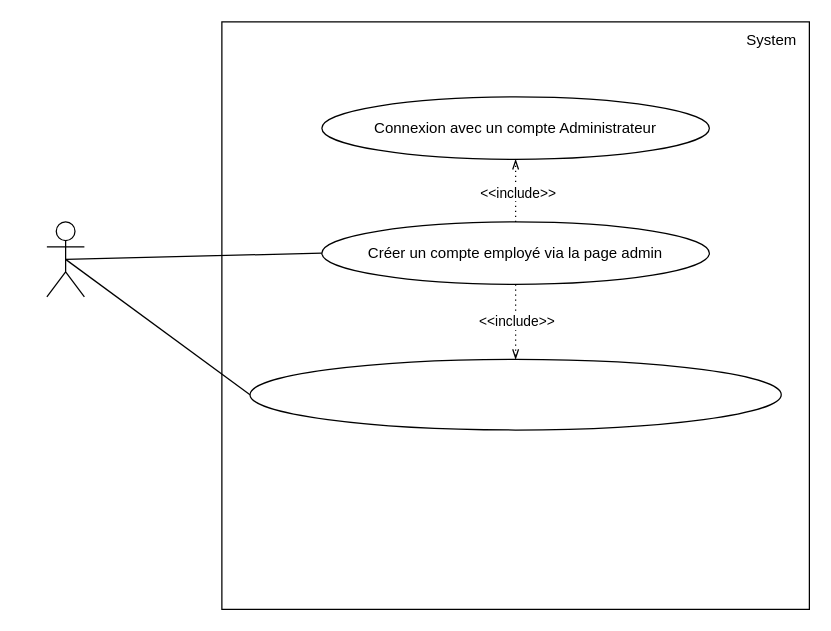
This 831x631 diagram has some shape labels left out. The shapes that lost their labels are listed below. From the top down, each one's box as (x1, y1, x2, y2) in pixels, then its label:
(46, 221, 84, 297): Responsable
(249, 358, 781, 430): Renseigner dans le système les informations sur l'employé
